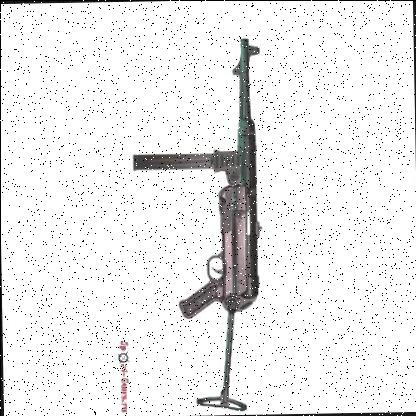rifle: (126, 30, 284, 410)
